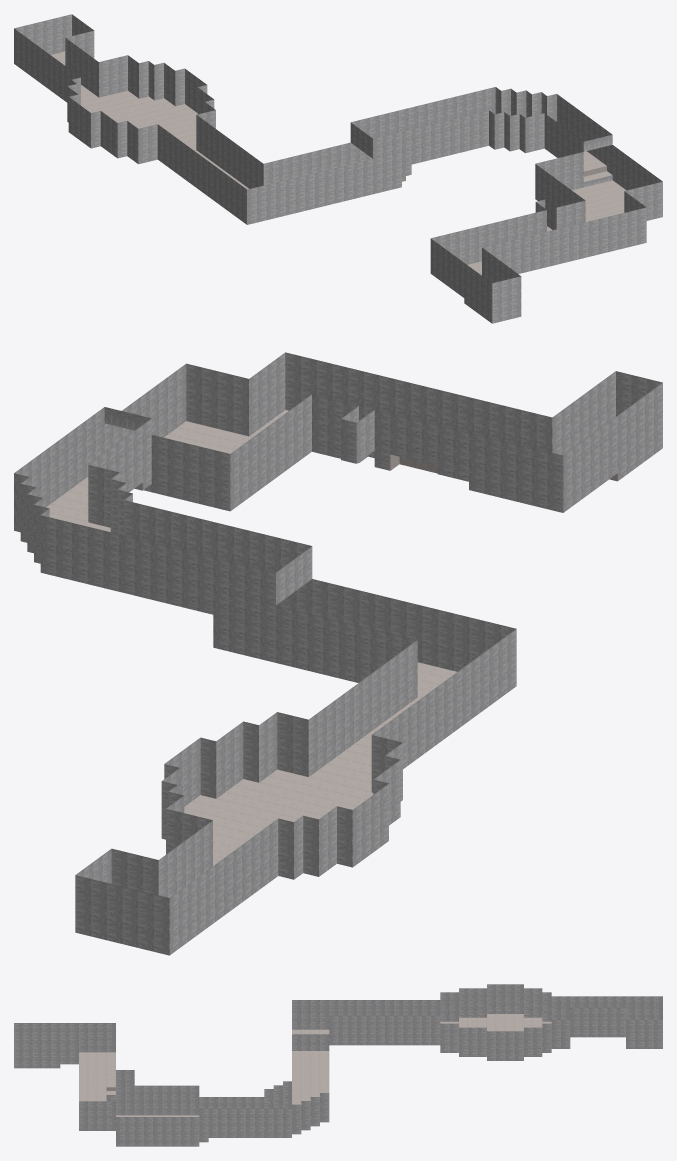
Rendered from PlayStageUnity.fbx.
3 views of the same model, one above another, from view 1: azimuth 30°, elevation 25°; view 2: azimuth 150°, elevation 25°; view 3: azimuth 270°, elevation 25° (orthographic). The views are drawn at different scales.
Parts seen in each view (by area): view 1: Plane.003; view 2: Plane.003; view 3: Plane.003.
Boxes of the visible parts, x1,y1,x2,y2 form: Plane.003: (14, 14, 662, 323); Plane.003: (14, 352, 662, 955); Plane.003: (14, 984, 662, 1146).
Size of the model in its own units: 144 by 22 by 280.
Materials: 2 (2 with a texture image).
